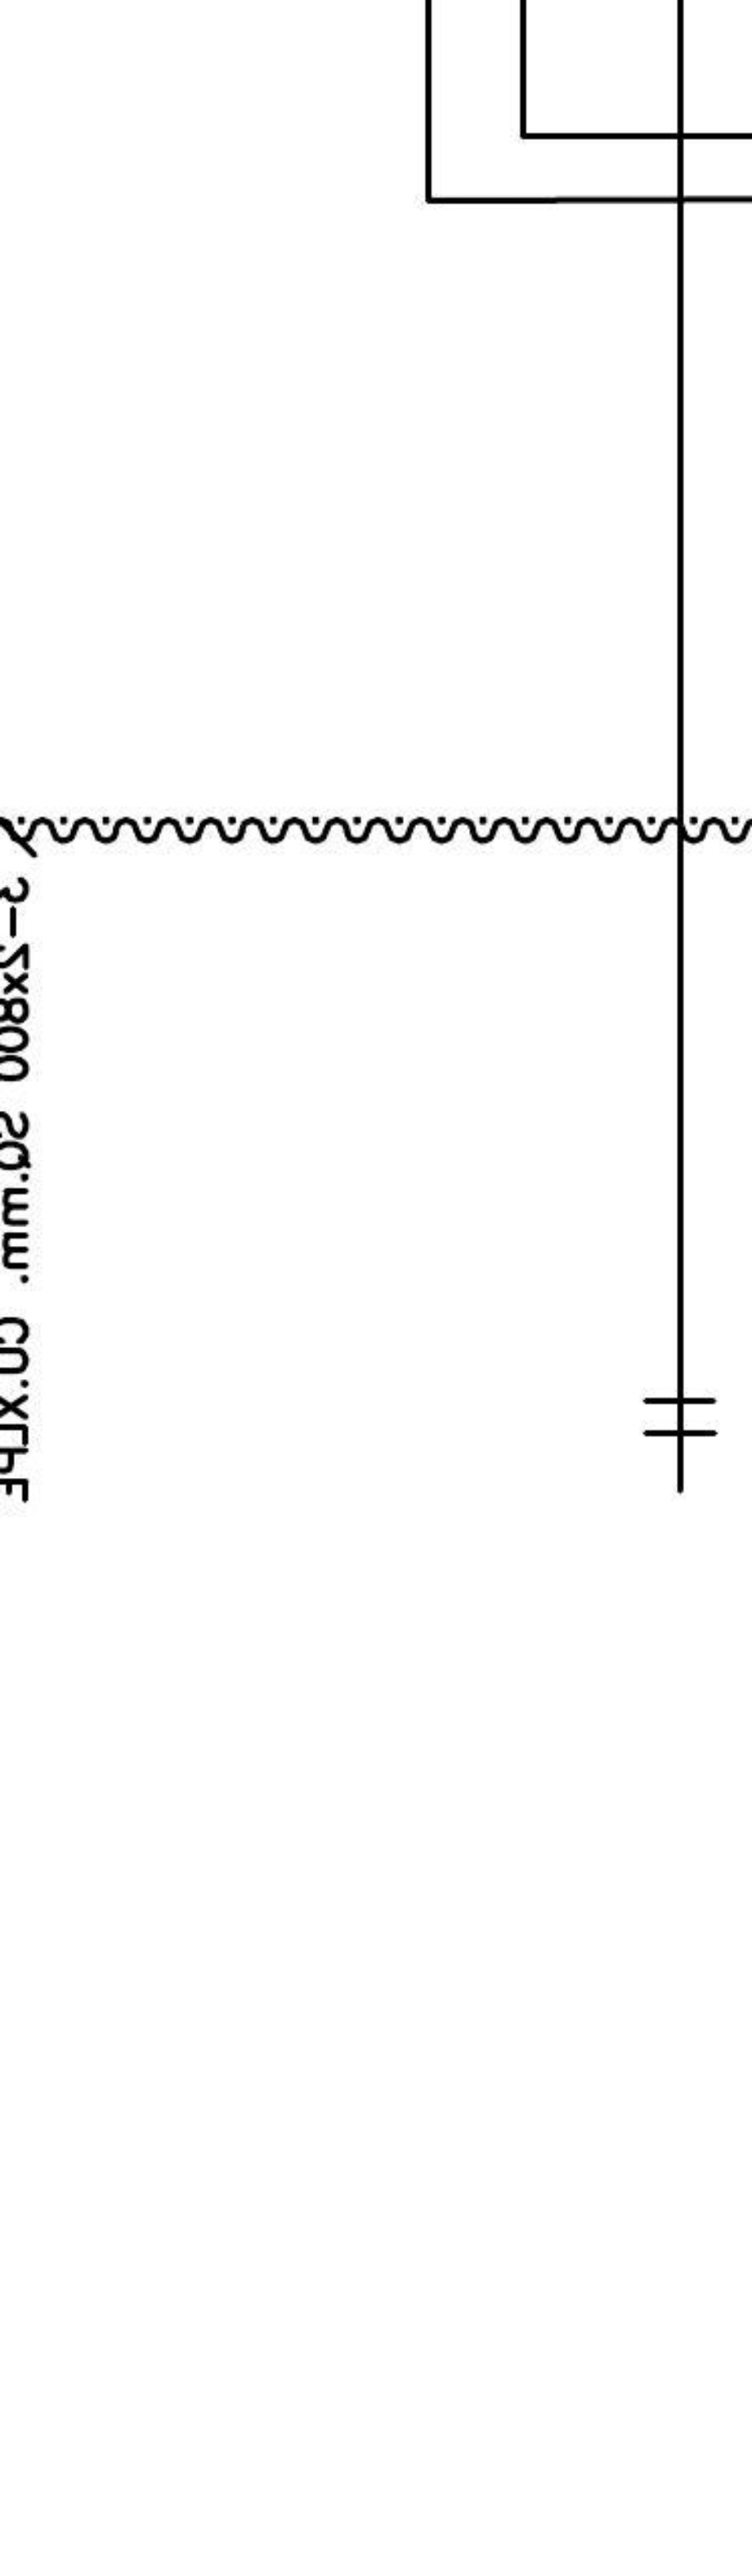115_buffer: (642, 1398, 718, 1436)
